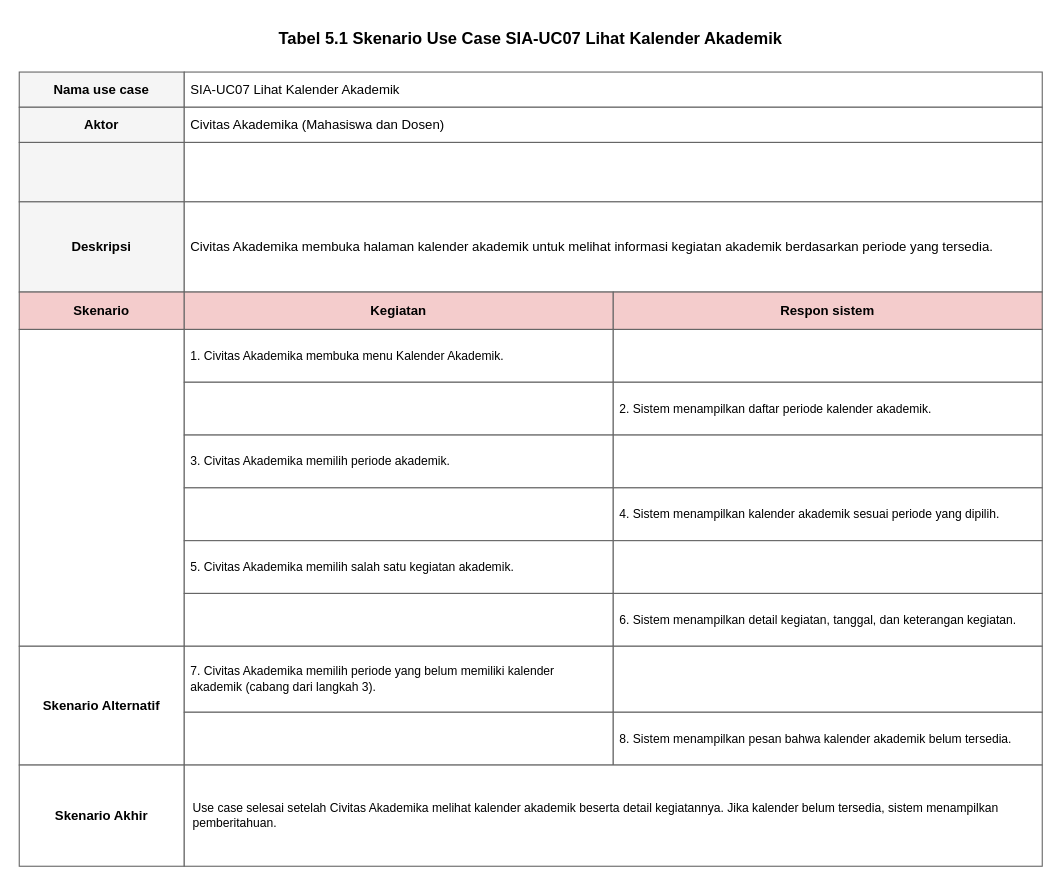
The diagram is 1062 pixels wide and 886 high, and some of its shapes have lost their labels. The shapes that lost their labels are listed below. From the top down, each one's box as (x1, y1, x2, y2) in pixels, then its label:
(18, 141, 184, 202): Tujuan
(183, 141, 1042, 202): Civitas Akademika dapat melihat informasi kalender akademik yang berlaku.
(18, 328, 184, 646): Skenario Normal
